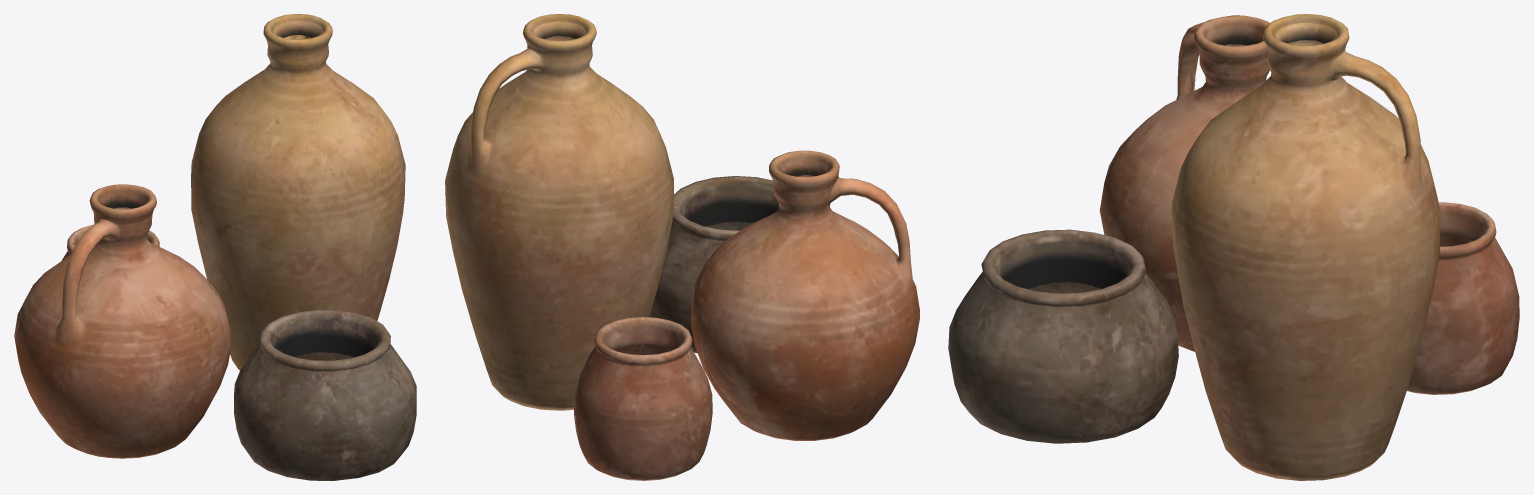
3 renders of one model, left to right at view 1: azimuth 30°, elevation 25°; view 2: azimuth 150°, elevation 25°; view 3: azimuth 270°, elevation 25°, orthographic. The views are drawn at different scales.
Visible parts, largest first — view 1: SM_Pot_Group_01_LOD0; view 2: SM_Pot_Group_01_LOD0; view 3: SM_Pot_Group_01_LOD0.
Part boxes in pixels (<box>): SM_Pot_Group_01_LOD0: <box>14,14,416,480</box>; SM_Pot_Group_01_LOD0: <box>445,14,919,480</box>; SM_Pot_Group_01_LOD0: <box>948,14,1519,480</box>.
Bounding box in the file's own units: 0.8129 × 0.6695 × 0.8269.
1 material, 1 textured.
